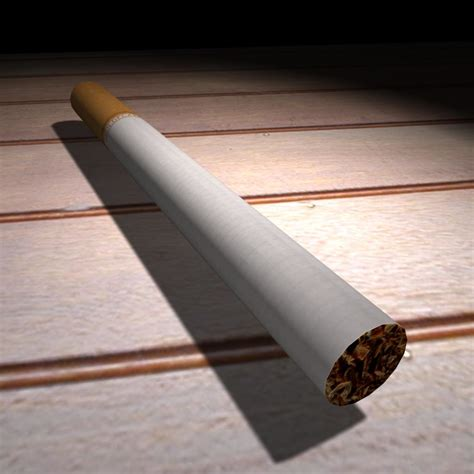cigarette: (69, 76, 409, 410)
